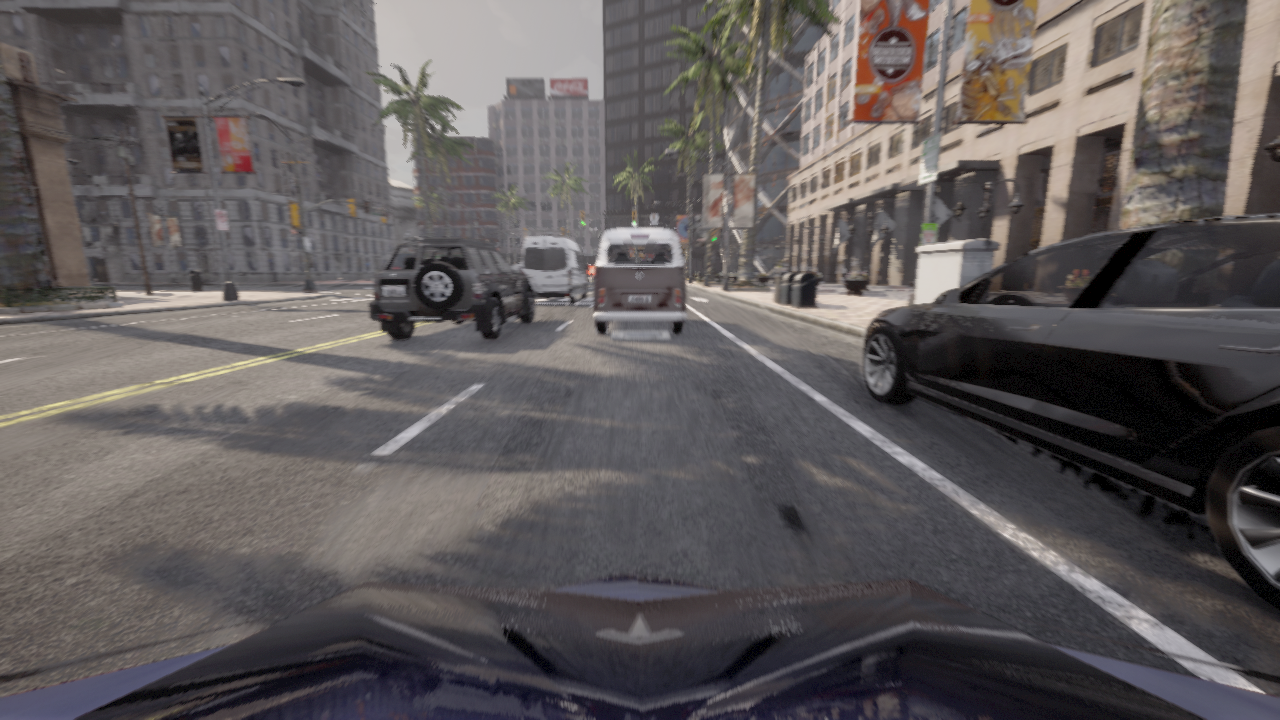cyclist: (0, 569, 1279, 719), (862, 213, 1279, 610), (369, 238, 536, 339), (592, 227, 686, 333), (520, 236, 588, 303), (586, 264, 595, 280)
